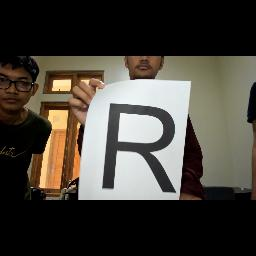r: (97, 102, 181, 196)
